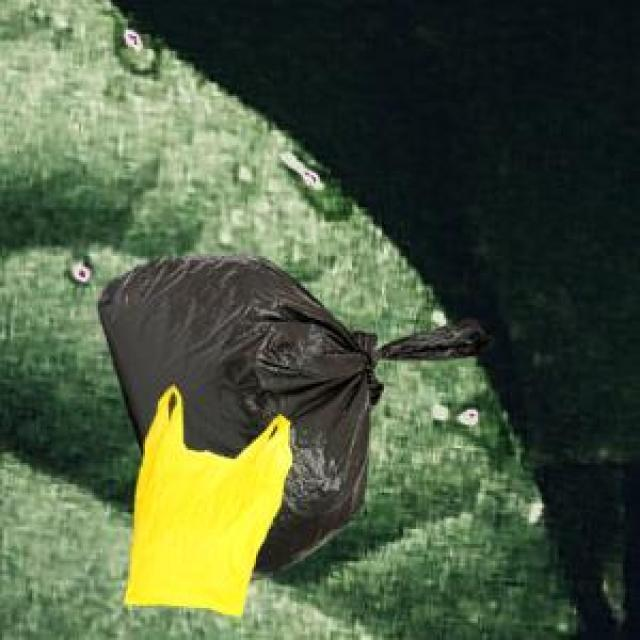miscellaneous trash: (94, 248, 489, 576)
